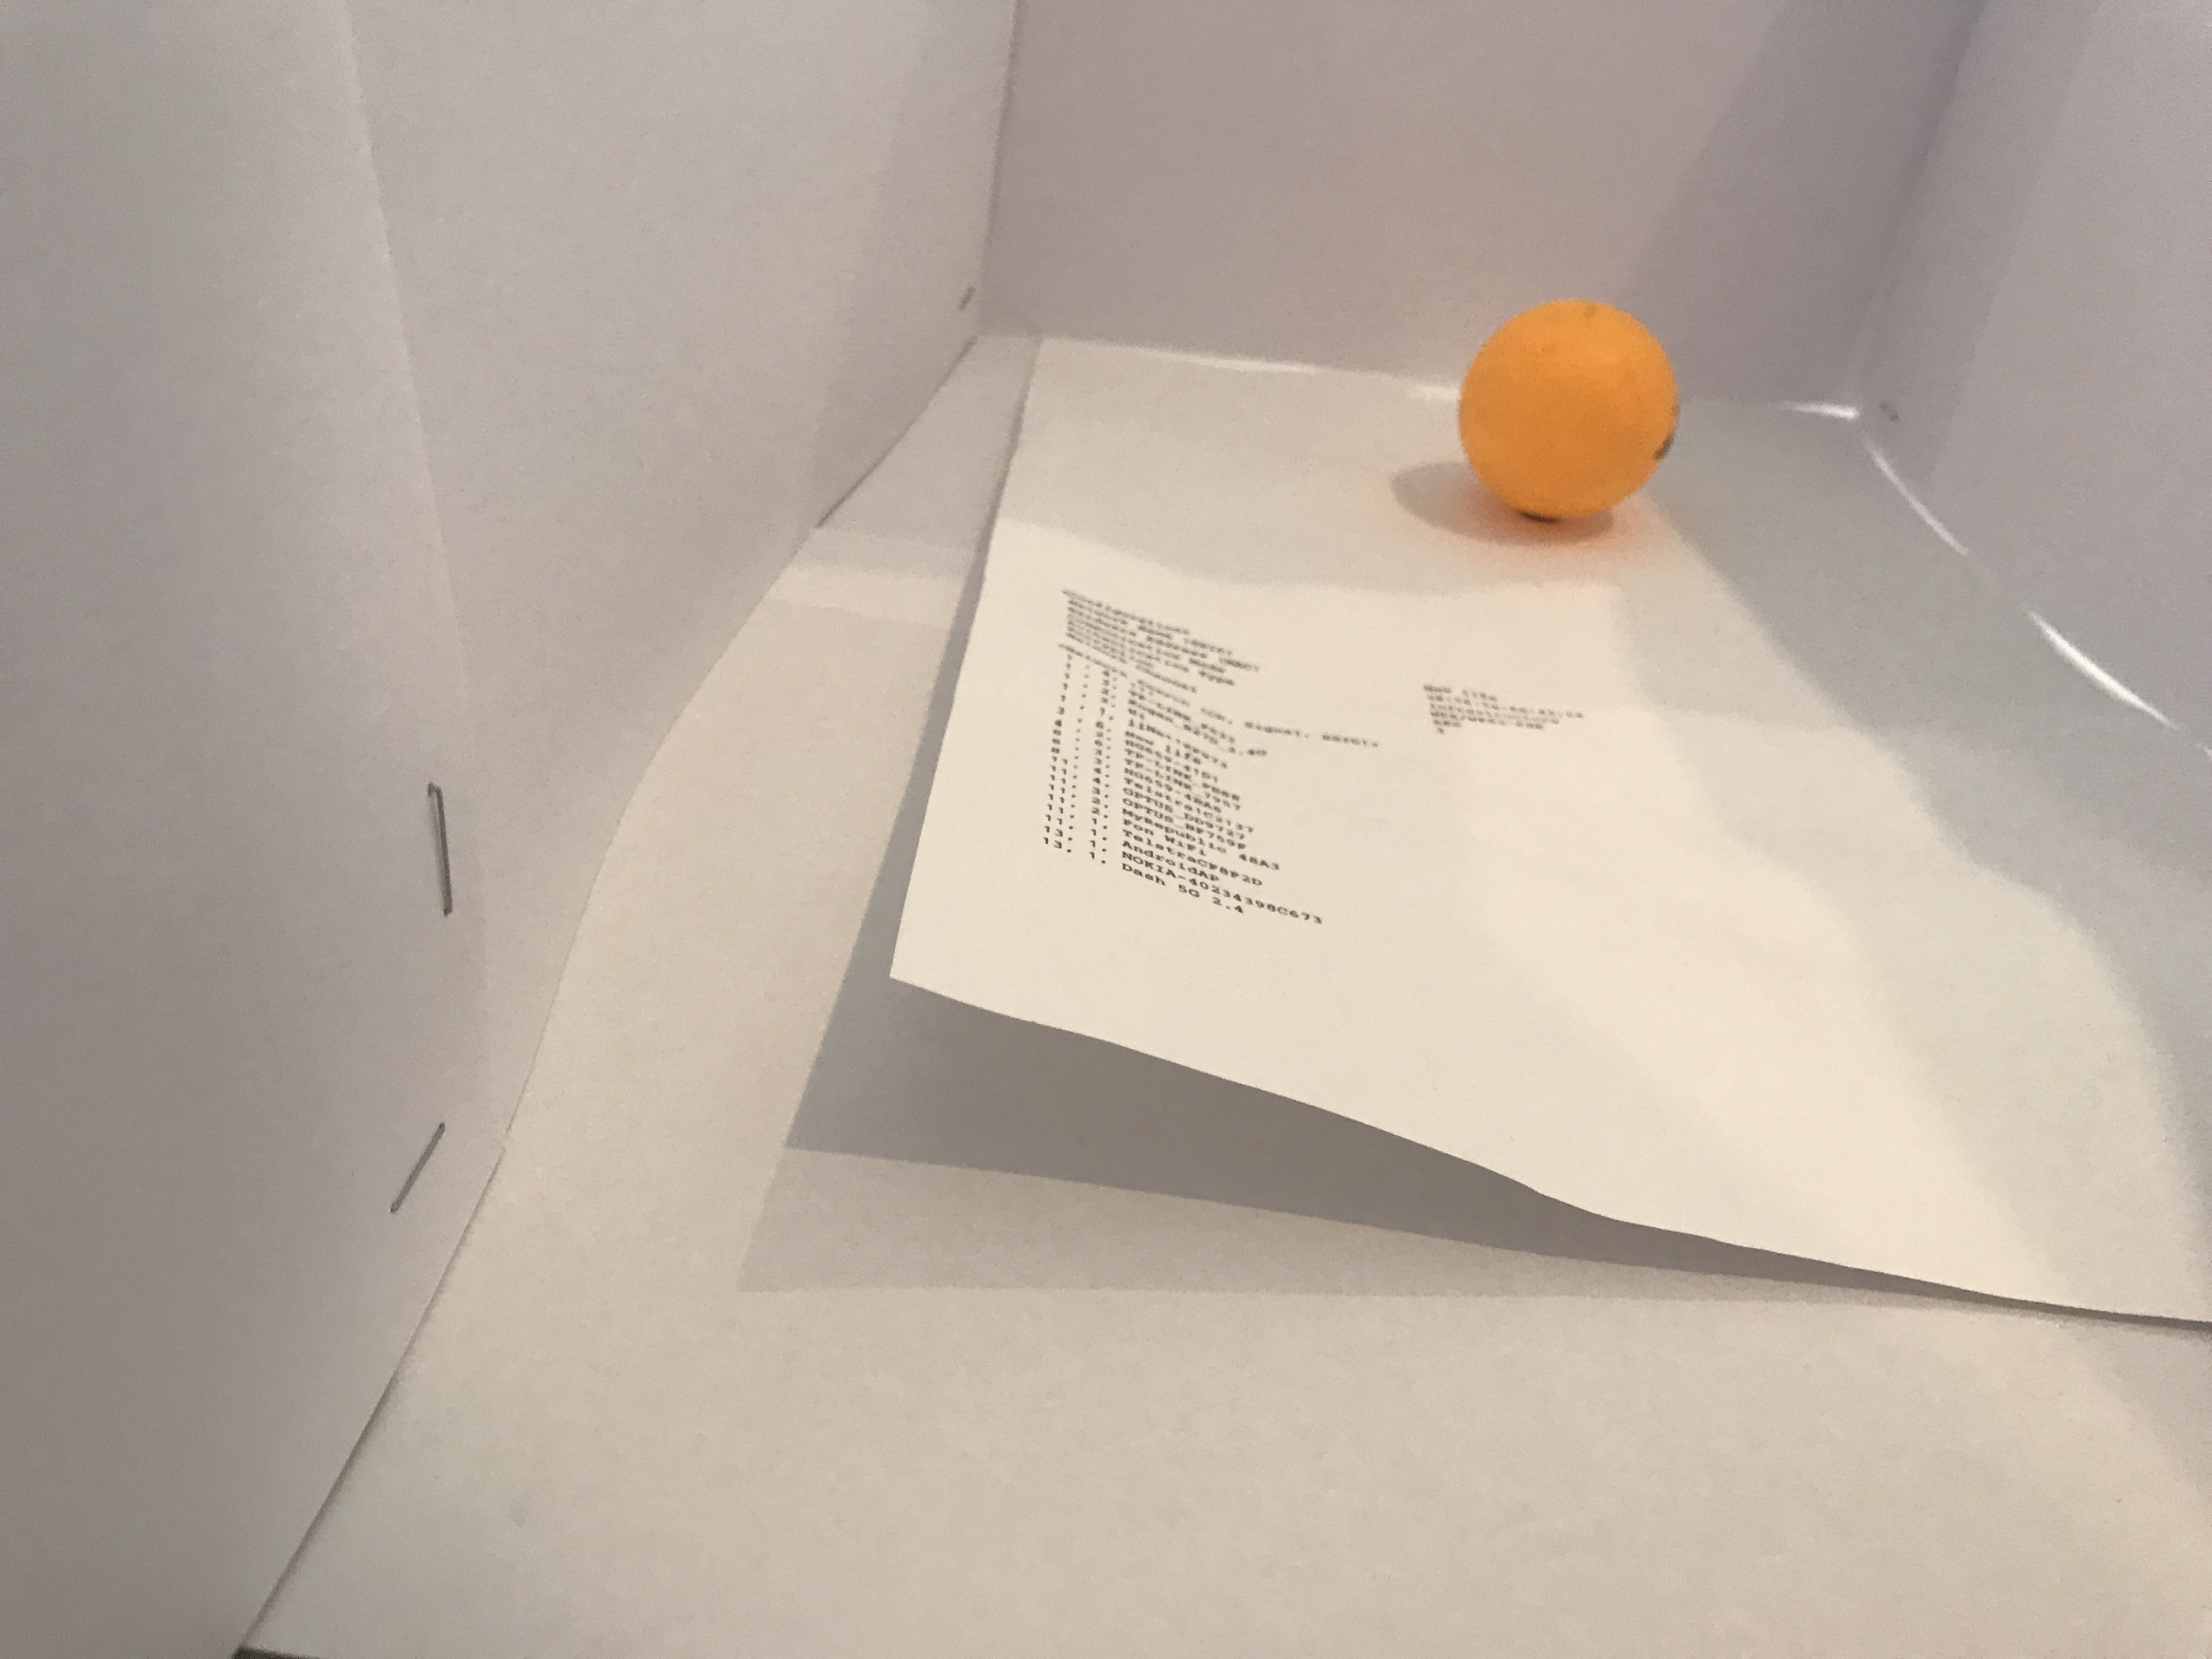pp: (1453, 296, 1684, 537)
